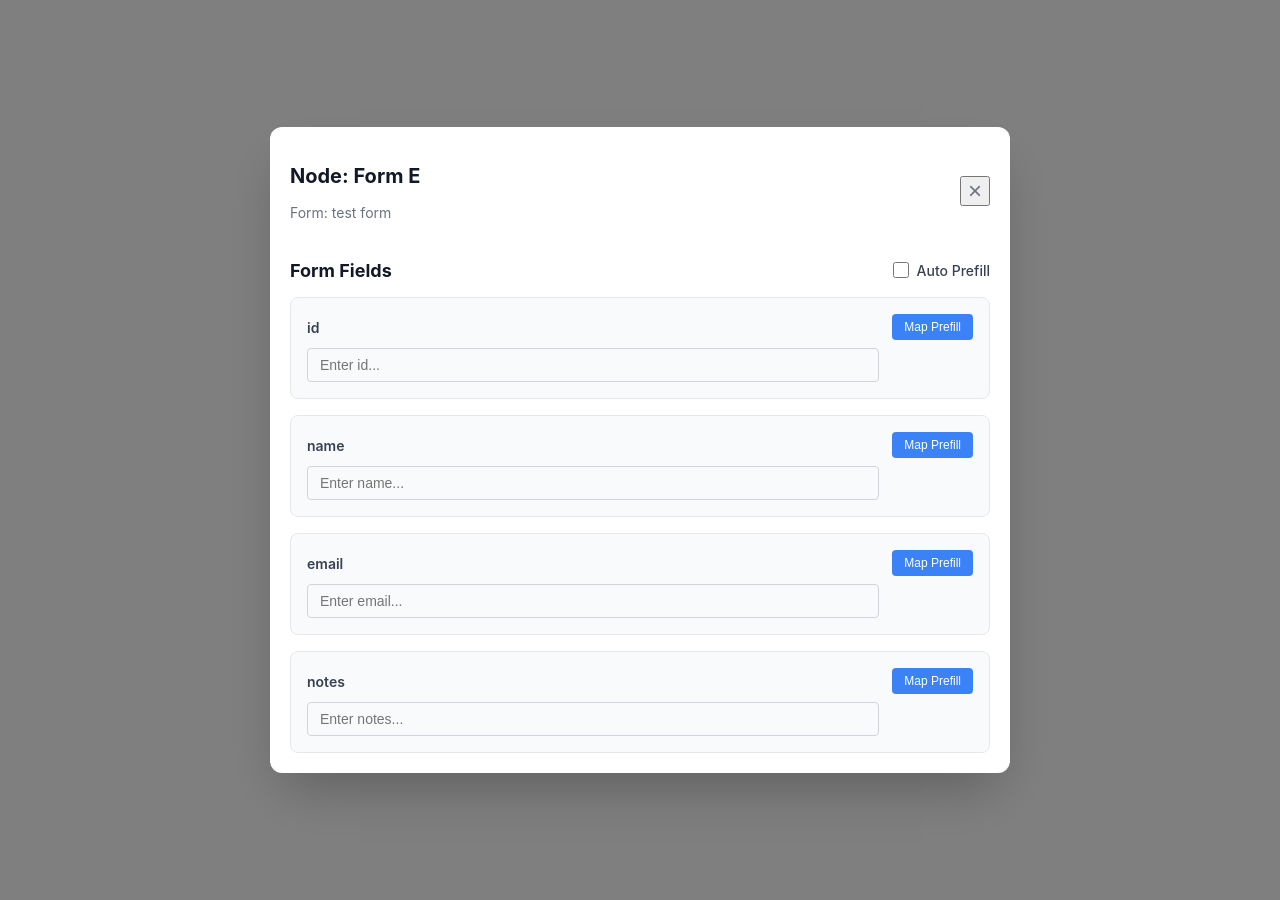
Test case: PrefillUI Component › Prefill Modal › opens prefill modal when map button is clicked
Step 1. Click the button "Map Prefill" in the row of "id" → (933, 327), box left=892, top=314, right=973, bottom=340
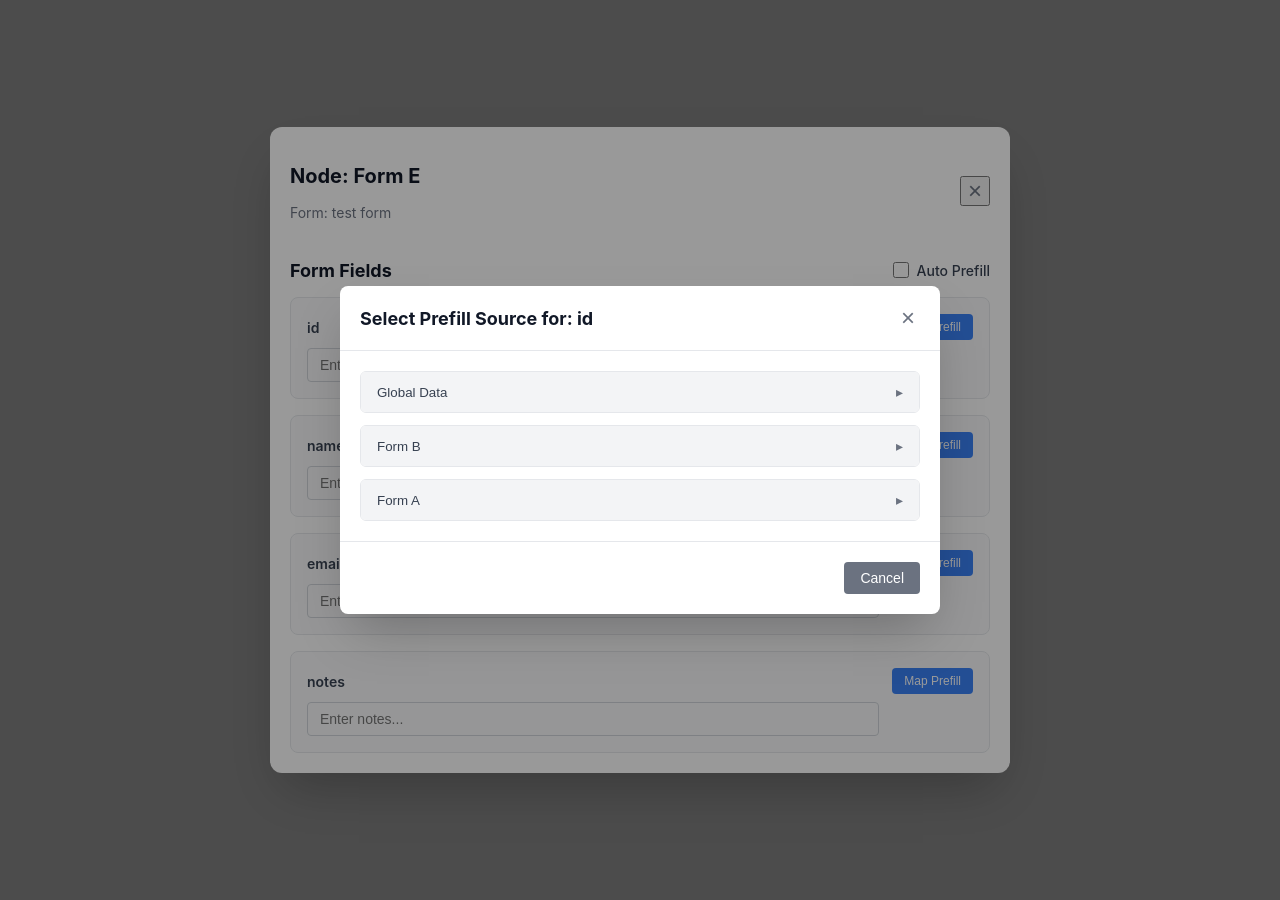
Now the heading "Select Prefill Source for: id" is shown, box left=360, top=308, right=593, bottom=328
